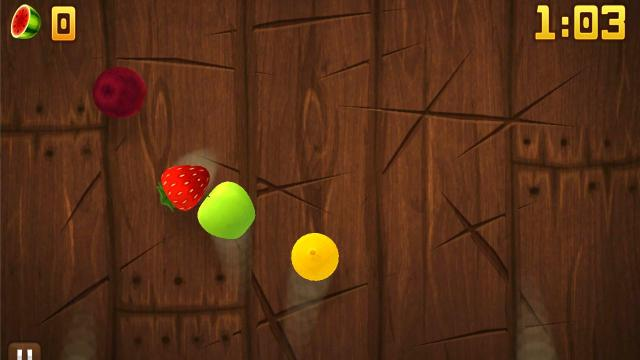fruit: (198, 182, 254, 240), (290, 233, 340, 287), (96, 70, 144, 118), (164, 166, 204, 210)
